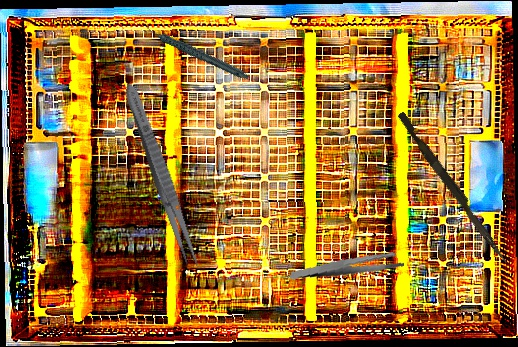Dressing Forceps: (118, 80, 206, 274), (290, 240, 405, 293)
Handpiece: (144, 5, 250, 99)
Pusher: (393, 111, 514, 265)
